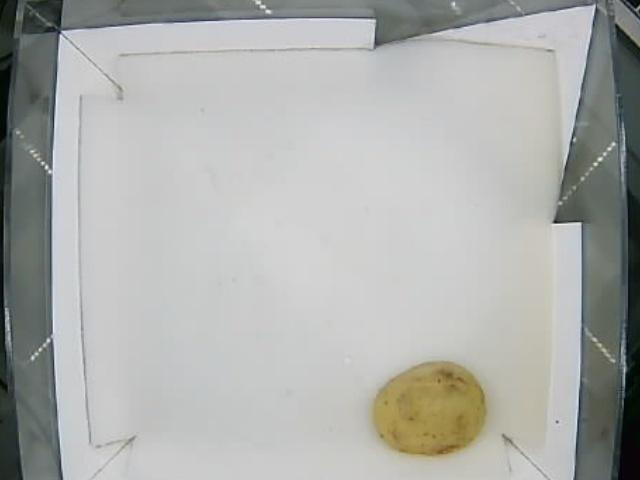Potato: (372, 359, 484, 454)
